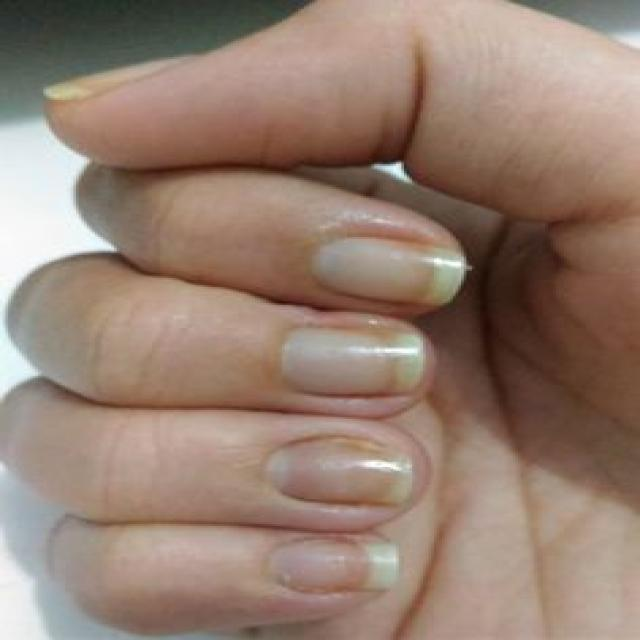Fingernail: (311, 236, 466, 305), (266, 437, 412, 506), (281, 326, 424, 396), (265, 539, 399, 595), (44, 54, 199, 102)
